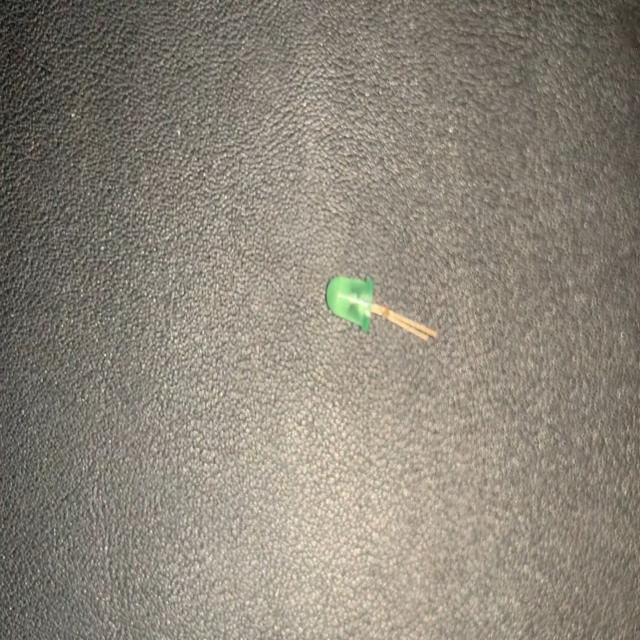LED: (322, 270, 438, 346)
